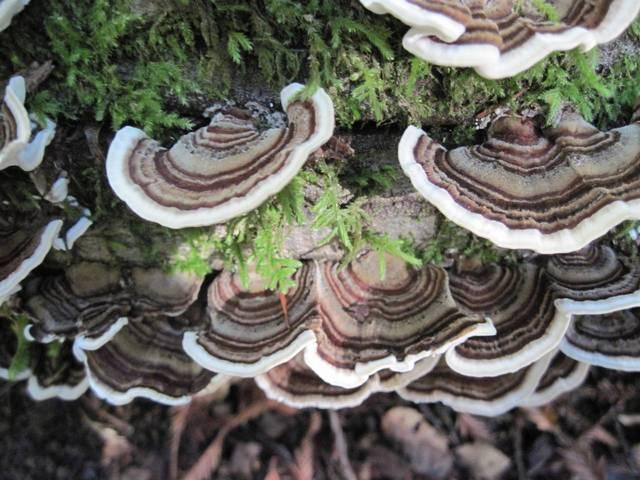Non-edible Mushroom: (0, 73, 640, 415), (395, 102, 639, 255), (103, 79, 336, 230), (351, 0, 639, 80)
